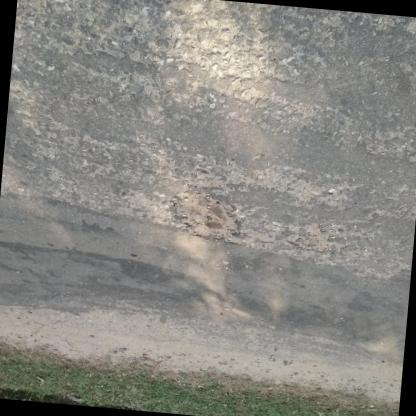pothole: (168, 190, 246, 248)
